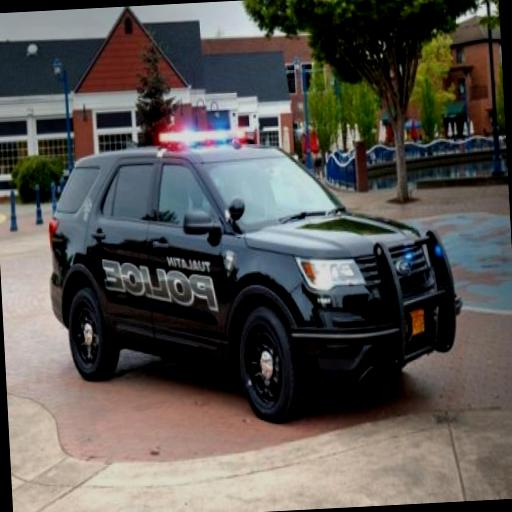Ambulance: (37, 110, 460, 420)
